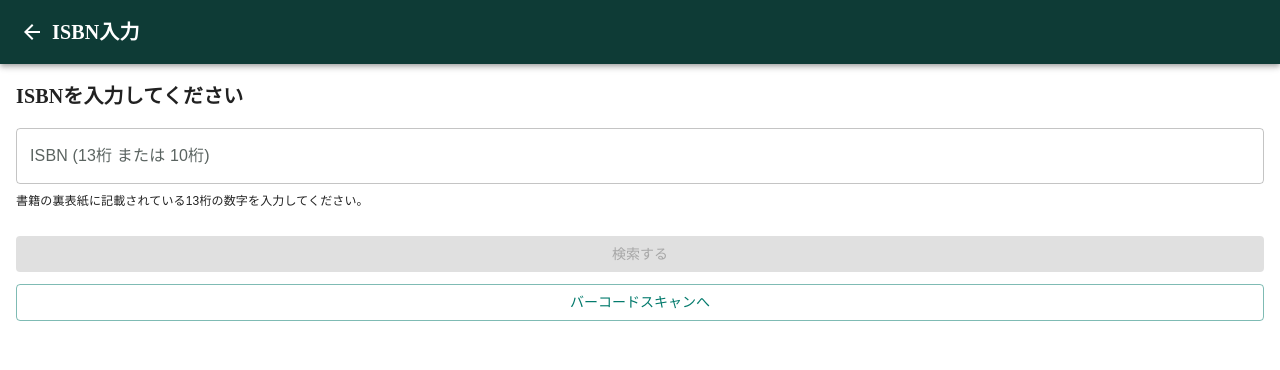
Scenario: IsbnInputPage › 有効なISBN-13入力時に「有効なISBNです」と表示される
The width and height of the screenshot is (1280, 370).
Type "9784873117584" into the field at (640, 156), box 16,128 -> 1264,184
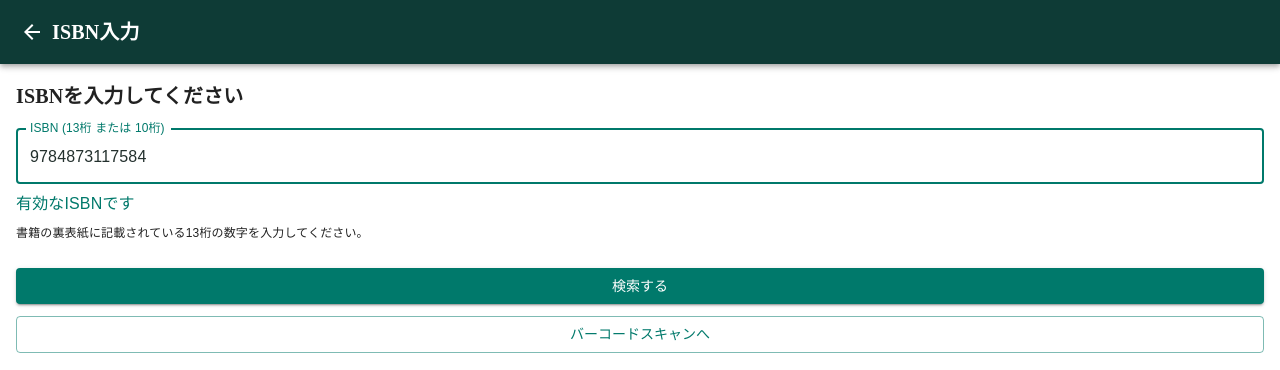
Expected: the text "有効なISBNです" is shown, 16,195 -> 135,212
